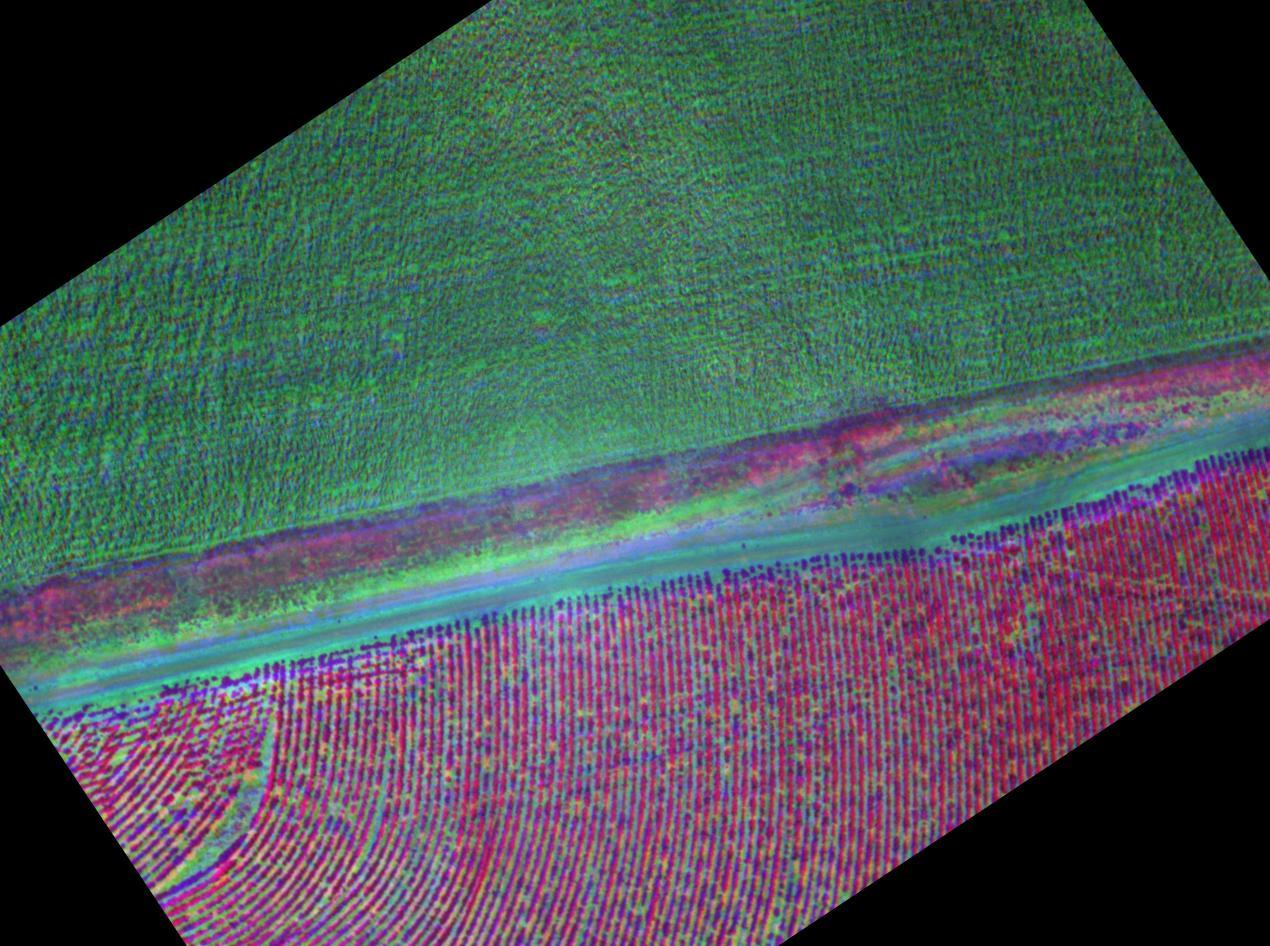dc: (156, 730, 279, 892), (341, 770, 412, 875), (488, 640, 583, 710), (716, 693, 794, 773), (708, 888, 784, 946)
